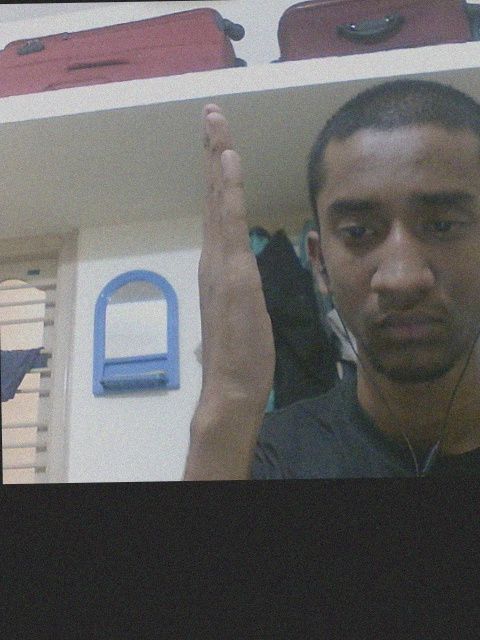hand: (194, 101, 279, 407)
